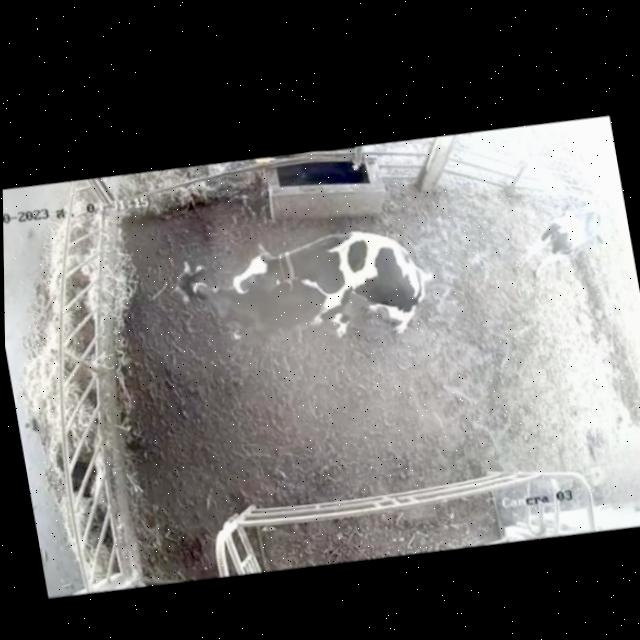ride: (222, 208, 447, 372)
stand: (147, 233, 333, 377)
